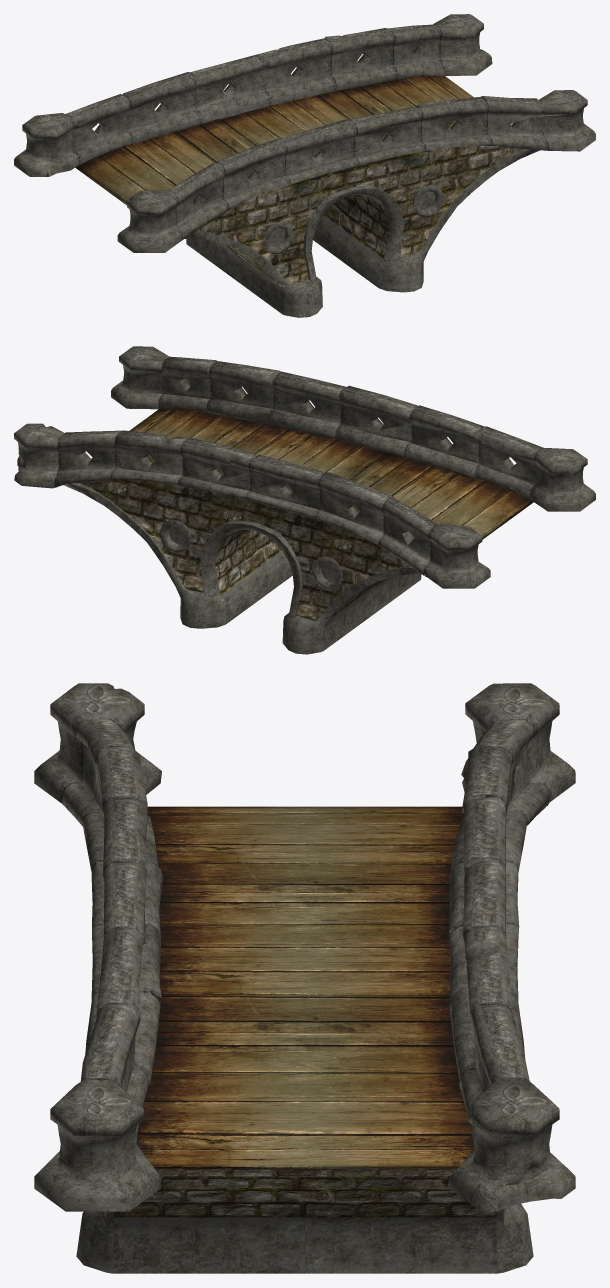
Rendered from BRIDGE City.fbx.
3 views of the same model, one above another, from view 1: azimuth 30°, elevation 25°; view 2: azimuth 150°, elevation 25°; view 3: azimuth 270°, elevation 25° (orthographic). The views are drawn at different scales.
Parts seen in each view (by area): view 1: BRIDGE_City; view 2: BRIDGE_City; view 3: BRIDGE_City.
Boxes of the visible parts, left/top/right/bottom form: BRIDGE_City: left=14, top=14, right=595, bottom=317; BRIDGE_City: left=14, top=346, right=595, bottom=654; BRIDGE_City: left=34, top=683, right=575, bottom=1273.
Size of the model in its own units: 4487 by 1614 by 2274.
3 materials, 3 textured.
